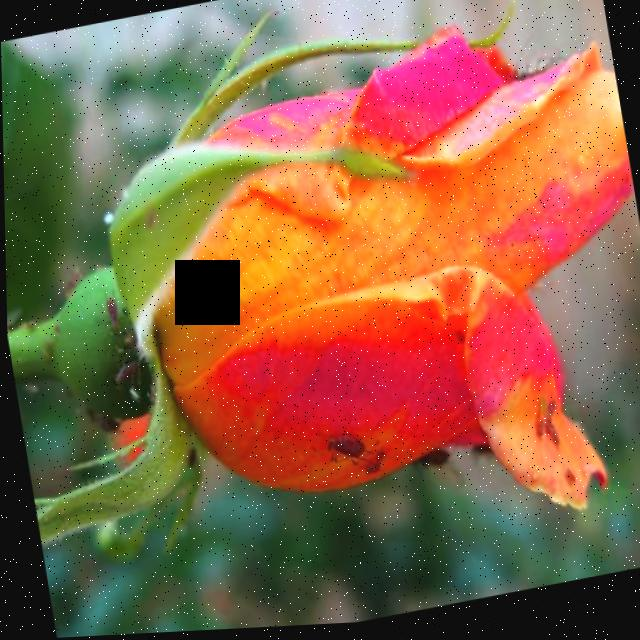rose: (13, 0, 640, 593)
